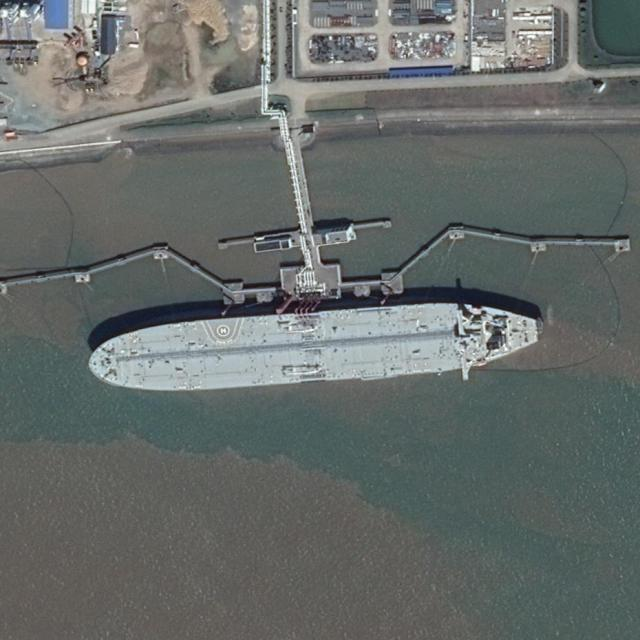Oil Tanker: (86, 296, 539, 398)
